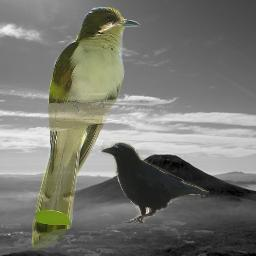Crow: (98, 140, 209, 223)
Cuckoo: (31, 7, 140, 251)
